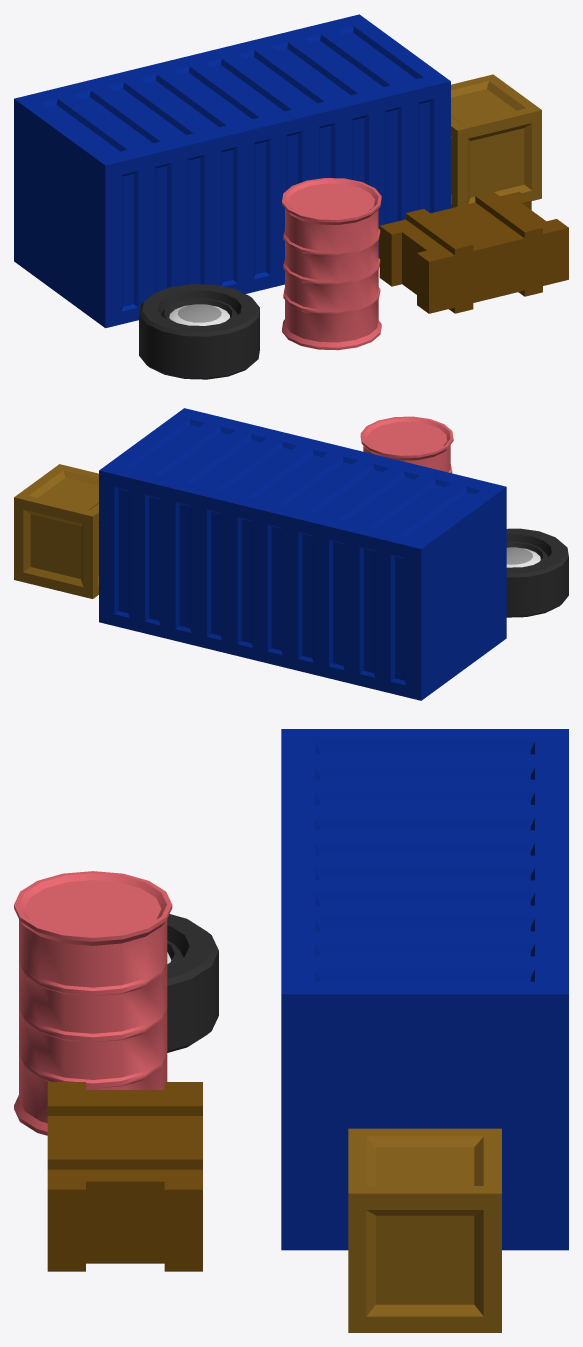
Rendered from lecture_1.fbx.
The picture shows the model from 3 angles, top to bottom: view 1: azimuth 30°, elevation 25°; view 2: azimuth 150°, elevation 25°; view 3: azimuth 270°, elevation 25°; orthographic projection. The views are drawn at different scales.
Parts seen in each view (by area): view 1: Cube, Cube.002, Cylinder.001, Cube.001, Cylinder; view 2: Cube, Cube.001, Cylinder, Cylinder.001; view 3: Cube, Cylinder.001, Cube.001, Cube.002, Cylinder.
Part boxes in pixels (x1,y1,x2,y2): Cube: (14, 14, 450, 328); Cube.002: (379, 191, 568, 313); Cylinder.001: (282, 178, 381, 350); Cube.001: (451, 74, 541, 208); Cylinder: (139, 284, 259, 379); Cube: (99, 408, 506, 700); Cube.001: (14, 464, 98, 598); Cylinder: (506, 528, 568, 617); Cylinder.001: (360, 416, 453, 473); Cube: (281, 729, 568, 1250); Cylinder.001: (14, 871, 172, 1135); Cube.001: (348, 1128, 501, 1332); Cube.002: (47, 1082, 202, 1271); Cylinder: (167, 914, 218, 1052).
Bounding box in the file's own units: 535 × 179 × 350.
